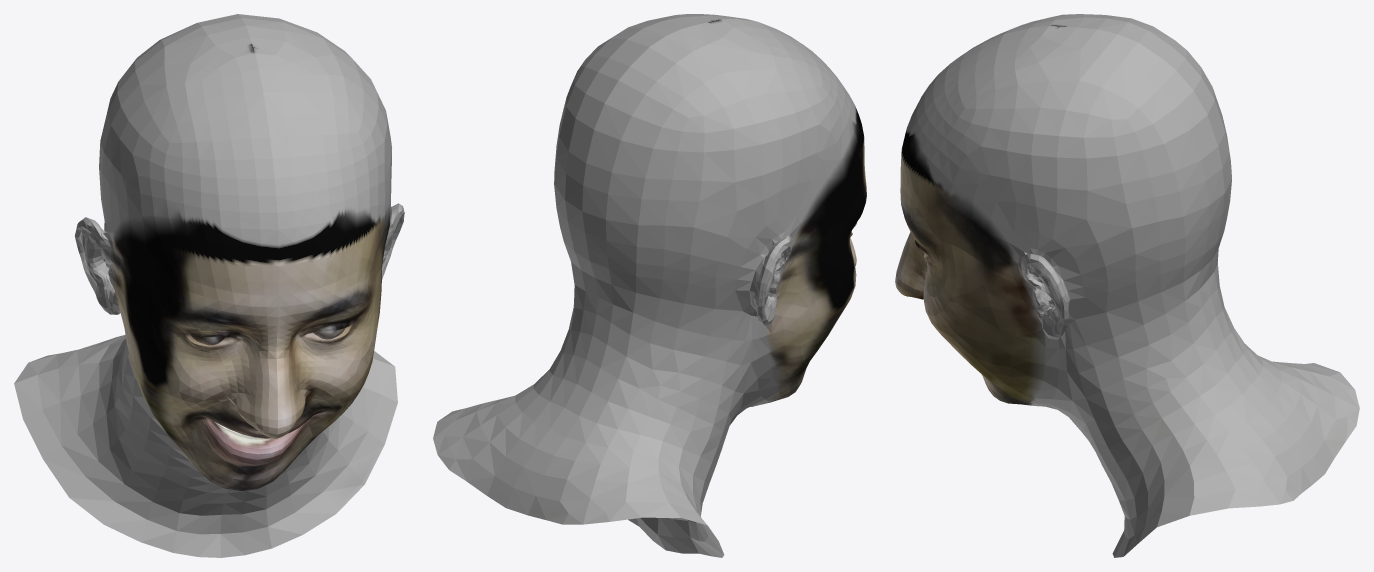
File: ezgif-frame-080.obj
The picture shows the model from 3 angles, left to right: view 1: azimuth 30°, elevation 25°; view 2: azimuth 150°, elevation 25°; view 3: azimuth 270°, elevation 25°; orthographic projection. The views are drawn at different scales.
Bounding box in the file's own units: 0.2105 × 0.3262 × 0.2698.
Materials: 1 (1 with a texture image).
